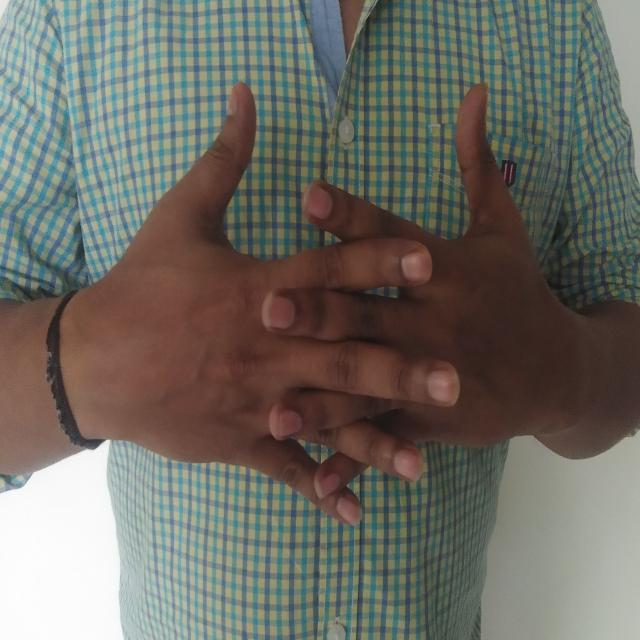W: (130, 149, 541, 531)
